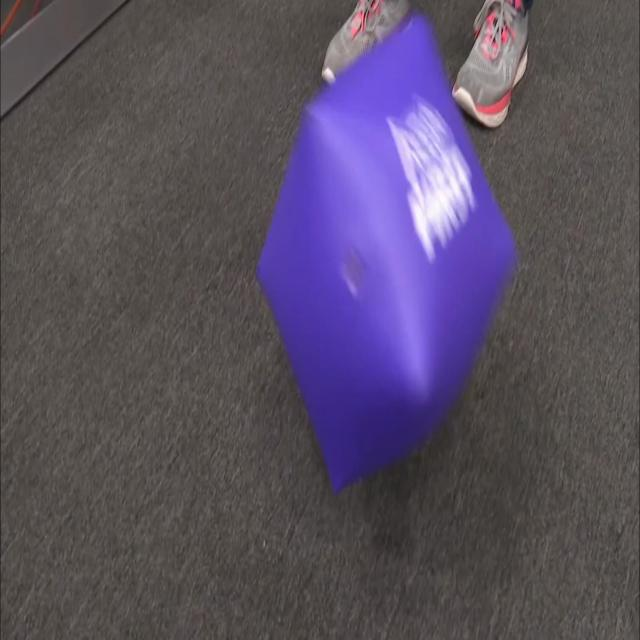frc_cube: (258, 19, 514, 491)
